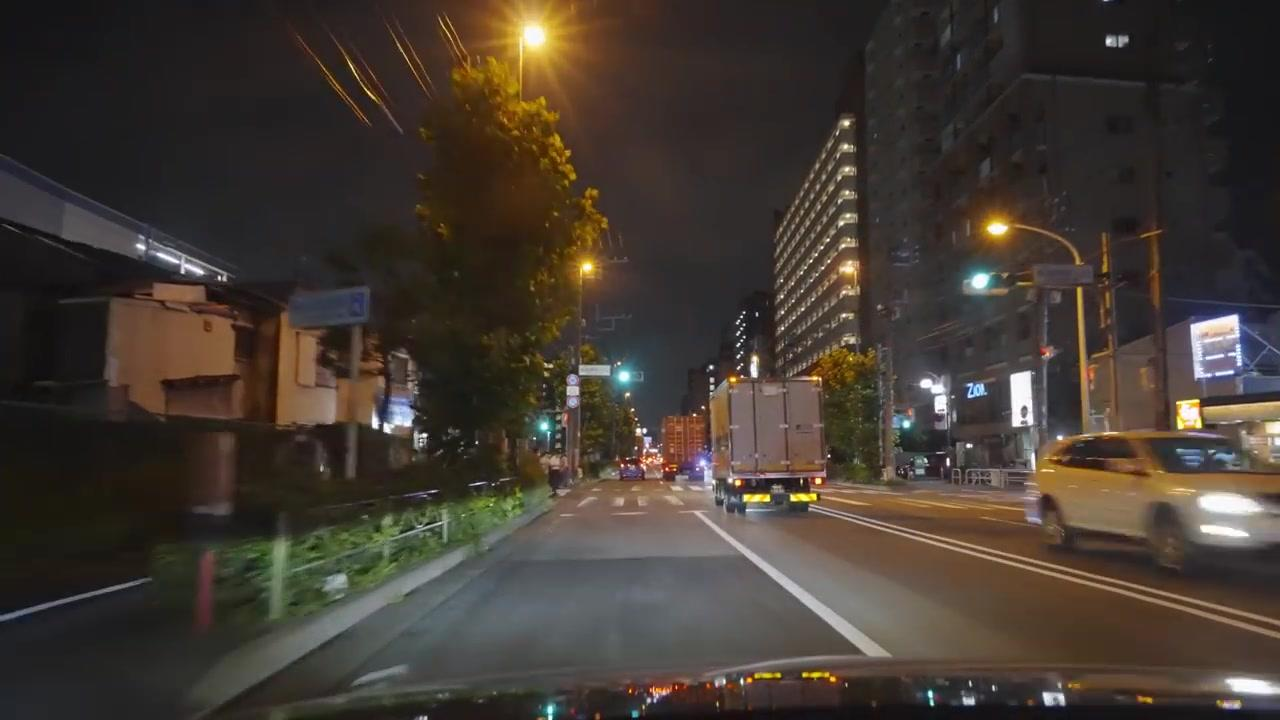car: (1025, 428, 1279, 578), (619, 465, 644, 480)
traffic light: (614, 363, 636, 392), (536, 414, 553, 438)
truck: (710, 376, 828, 518)
